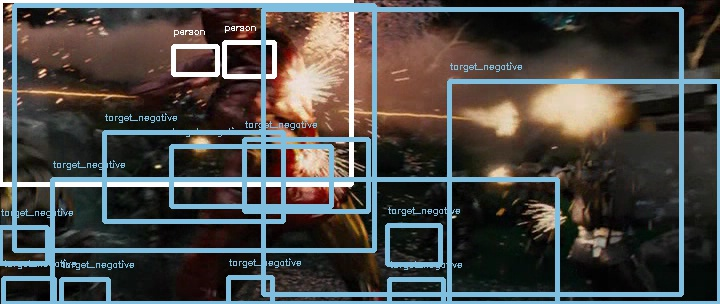person: (206, 3, 263, 65), (205, 3, 262, 65), (207, 3, 264, 65), (206, 2, 263, 64), (206, 4, 263, 66)
target_negative: (38, 123, 388, 171), (538, 157, 663, 217), (500, 112, 603, 172), (479, 6, 533, 74), (664, 90, 683, 275), (220, 274, 549, 280)
